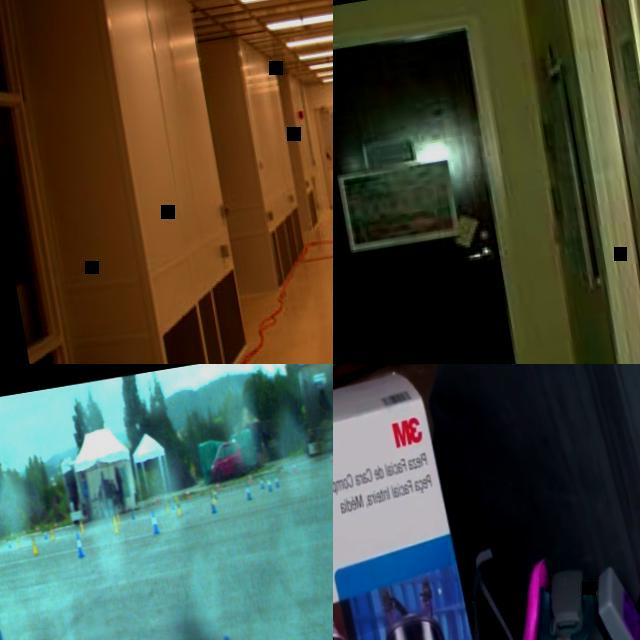mask: (494, 537, 640, 640)
safety_cone: (72, 530, 84, 558), (207, 491, 218, 514), (150, 509, 160, 534), (242, 477, 252, 501), (264, 472, 274, 492), (174, 493, 182, 516), (30, 534, 38, 556), (272, 470, 280, 490), (112, 515, 120, 534), (128, 506, 136, 520), (210, 488, 217, 503), (163, 498, 170, 512), (247, 471, 254, 484), (290, 459, 296, 474), (258, 474, 264, 489), (79, 519, 85, 534), (170, 496, 176, 510), (116, 511, 122, 525), (214, 479, 220, 491), (42, 528, 48, 540), (6, 536, 12, 548), (184, 488, 190, 499), (213, 486, 218, 499), (49, 527, 54, 539), (329, 450, 333, 464), (20, 526, 26, 535), (16, 535, 20, 548), (53, 520, 57, 528), (35, 525, 39, 533)
